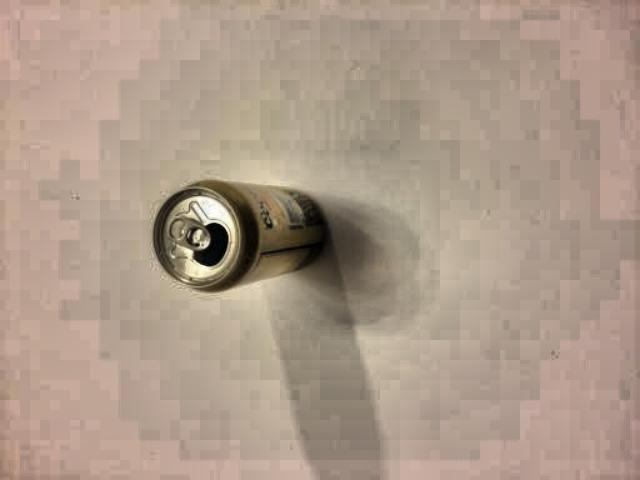Bottles: (148, 161, 348, 304)
